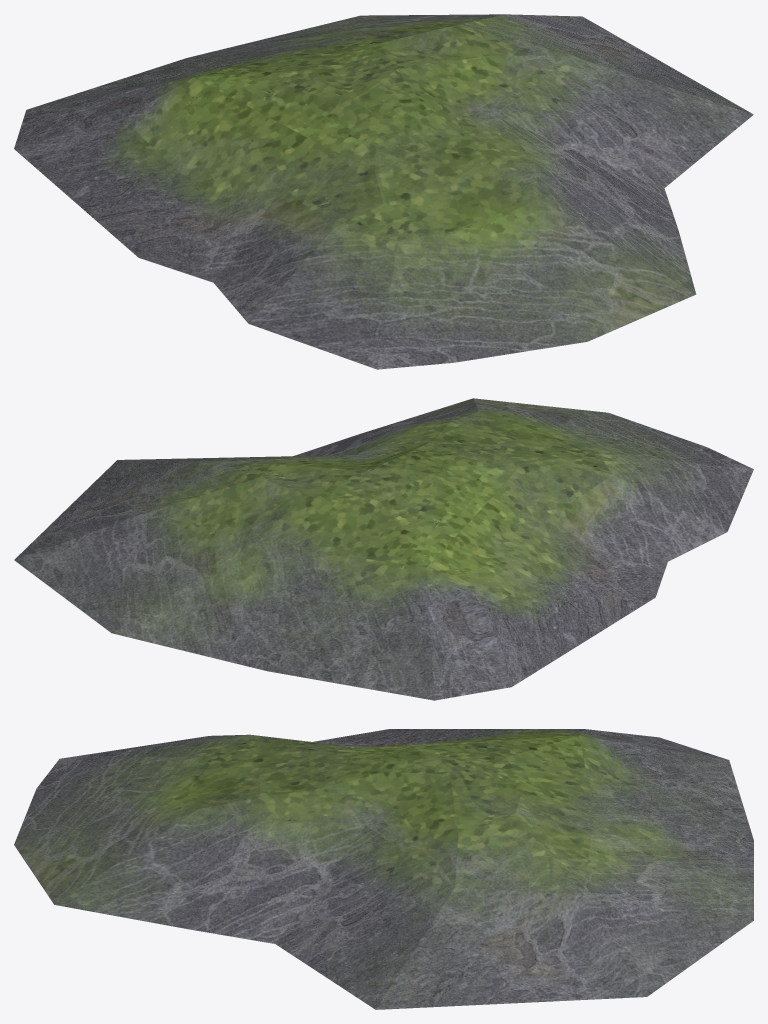
Rendered from 3DObj_LandV2_1.fbx.
3 views of the same model, one above another, from view 1: azimuth 30°, elevation 25°; view 2: azimuth 150°, elevation 25°; view 3: azimuth 270°, elevation 25° (orthographic). The views are drawn at different scales.
Visible parts, largest first — view 1: 3DObj_Land_1.001; view 2: 3DObj_Land_1.001; view 3: 3DObj_Land_1.001.
Part boxes in pixels (x1,y1,x2,y2): 3DObj_Land_1.001: (14, 14, 753, 369); 3DObj_Land_1.001: (14, 398, 753, 700); 3DObj_Land_1.001: (14, 729, 753, 1009).
Size of the model in its own units: 643 by 96.29 by 716.
1 material, 1 textured.
